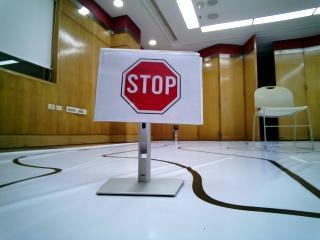stop: (109, 56, 195, 119)
